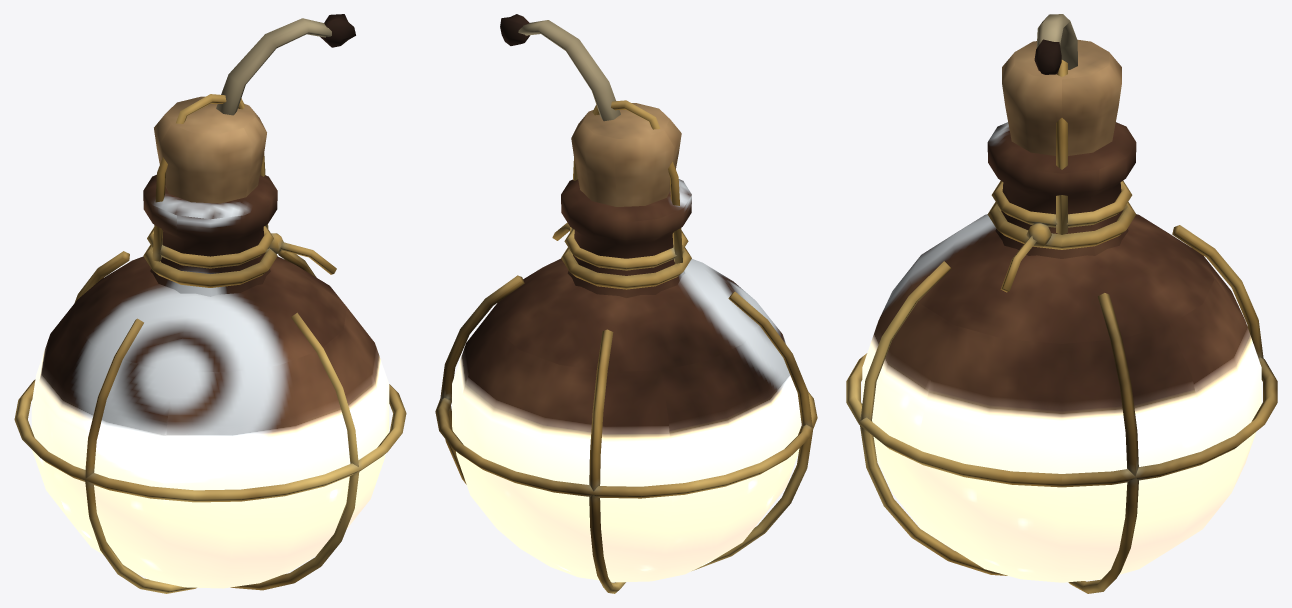
The model's file is FireGrenade.fbx.
3 renders of one model, left to right at view 1: azimuth 30°, elevation 25°; view 2: azimuth 150°, elevation 25°; view 3: azimuth 270°, elevation 25°, orthographic. The views are drawn at different scales.
Visible parts, largest first — view 1: FireGrenade; view 2: FireGrenade; view 3: FireGrenade.
Boxes of the visible parts, bbox=[...] form: FireGrenade: bbox=[14, 14, 406, 593]; FireGrenade: bbox=[435, 14, 817, 593]; FireGrenade: bbox=[846, 14, 1277, 593].
Size of the model in its own units: 0.1528 by 0.2333 by 0.1517.
